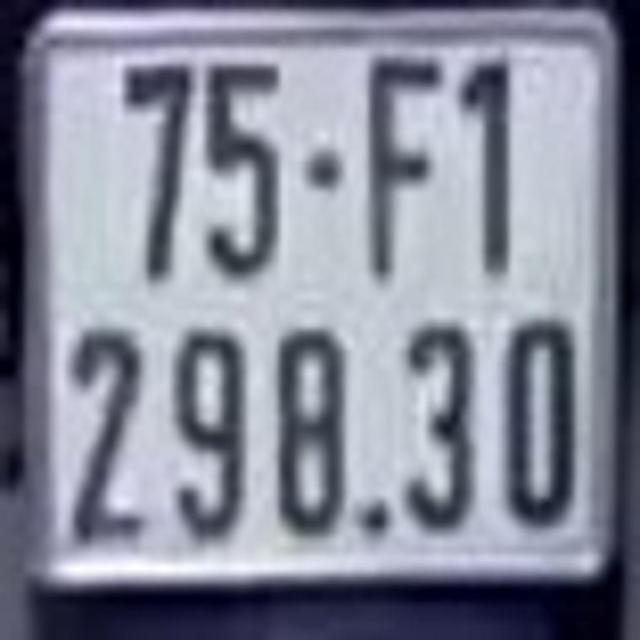0: (506, 308, 579, 524)
1: (467, 54, 512, 268)
2: (65, 322, 142, 541)
3: (410, 316, 478, 527)
5: (203, 60, 286, 284)
7: (119, 54, 184, 276)
8: (273, 322, 350, 527)
9: (181, 323, 241, 535)
F: (367, 41, 451, 304)
